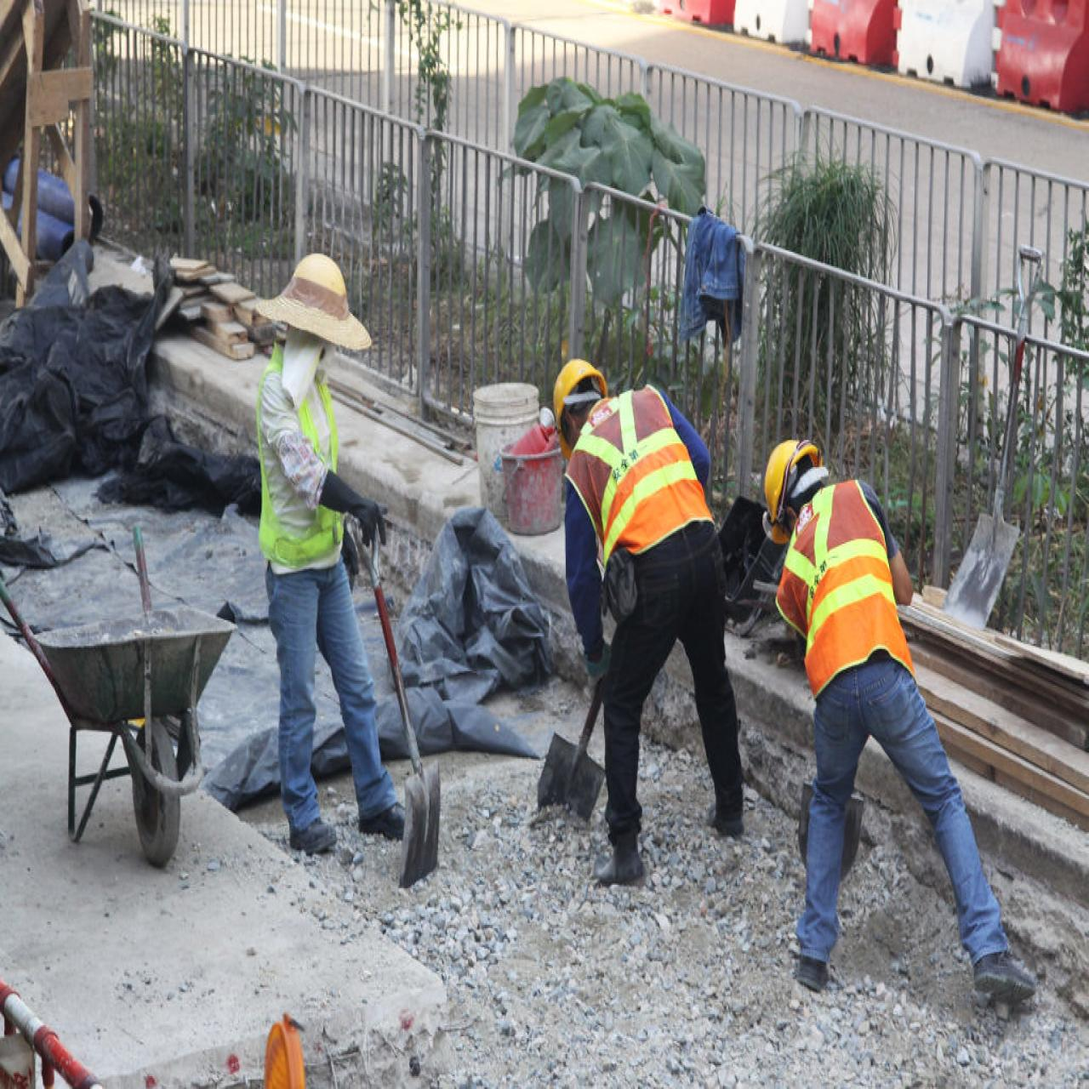Person: (748, 429, 1057, 1036), (524, 343, 750, 892), (235, 243, 418, 860)
Safety_Vest: (766, 473, 921, 712), (566, 373, 727, 572), (245, 357, 354, 573)
